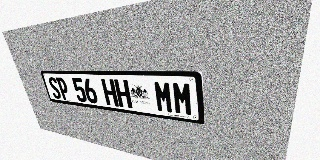5: (71, 78, 88, 103)
6: (82, 78, 99, 104)
H: (114, 79, 133, 108), (101, 79, 119, 107)
M: (172, 81, 193, 116), (153, 81, 174, 114)
P: (55, 77, 71, 100)
S: (47, 77, 62, 99)
